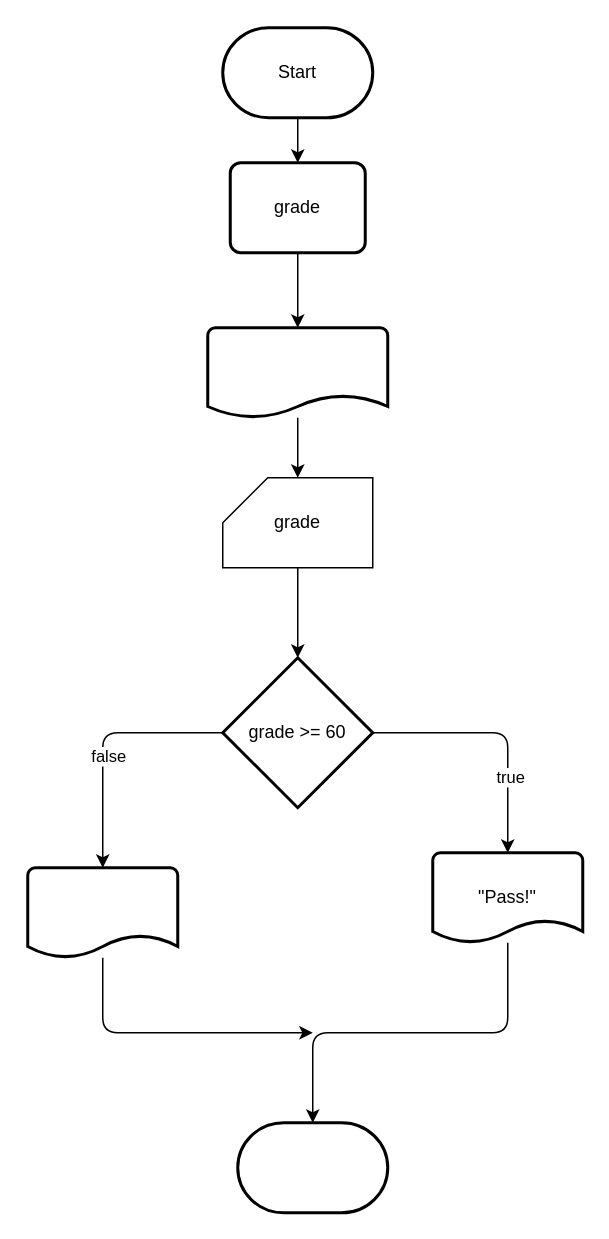
This 609x1239 diagram has some shape labels left out. Here are the shapes that lost their labels. From the top down, the box of each, then its label:
(206, 326, 388, 418): "Enter your grade:"
(26, 866, 178, 958): "Fail!"
(236, 1120, 388, 1214): Stop
